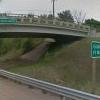Bridge: (4, 9, 80, 58)
